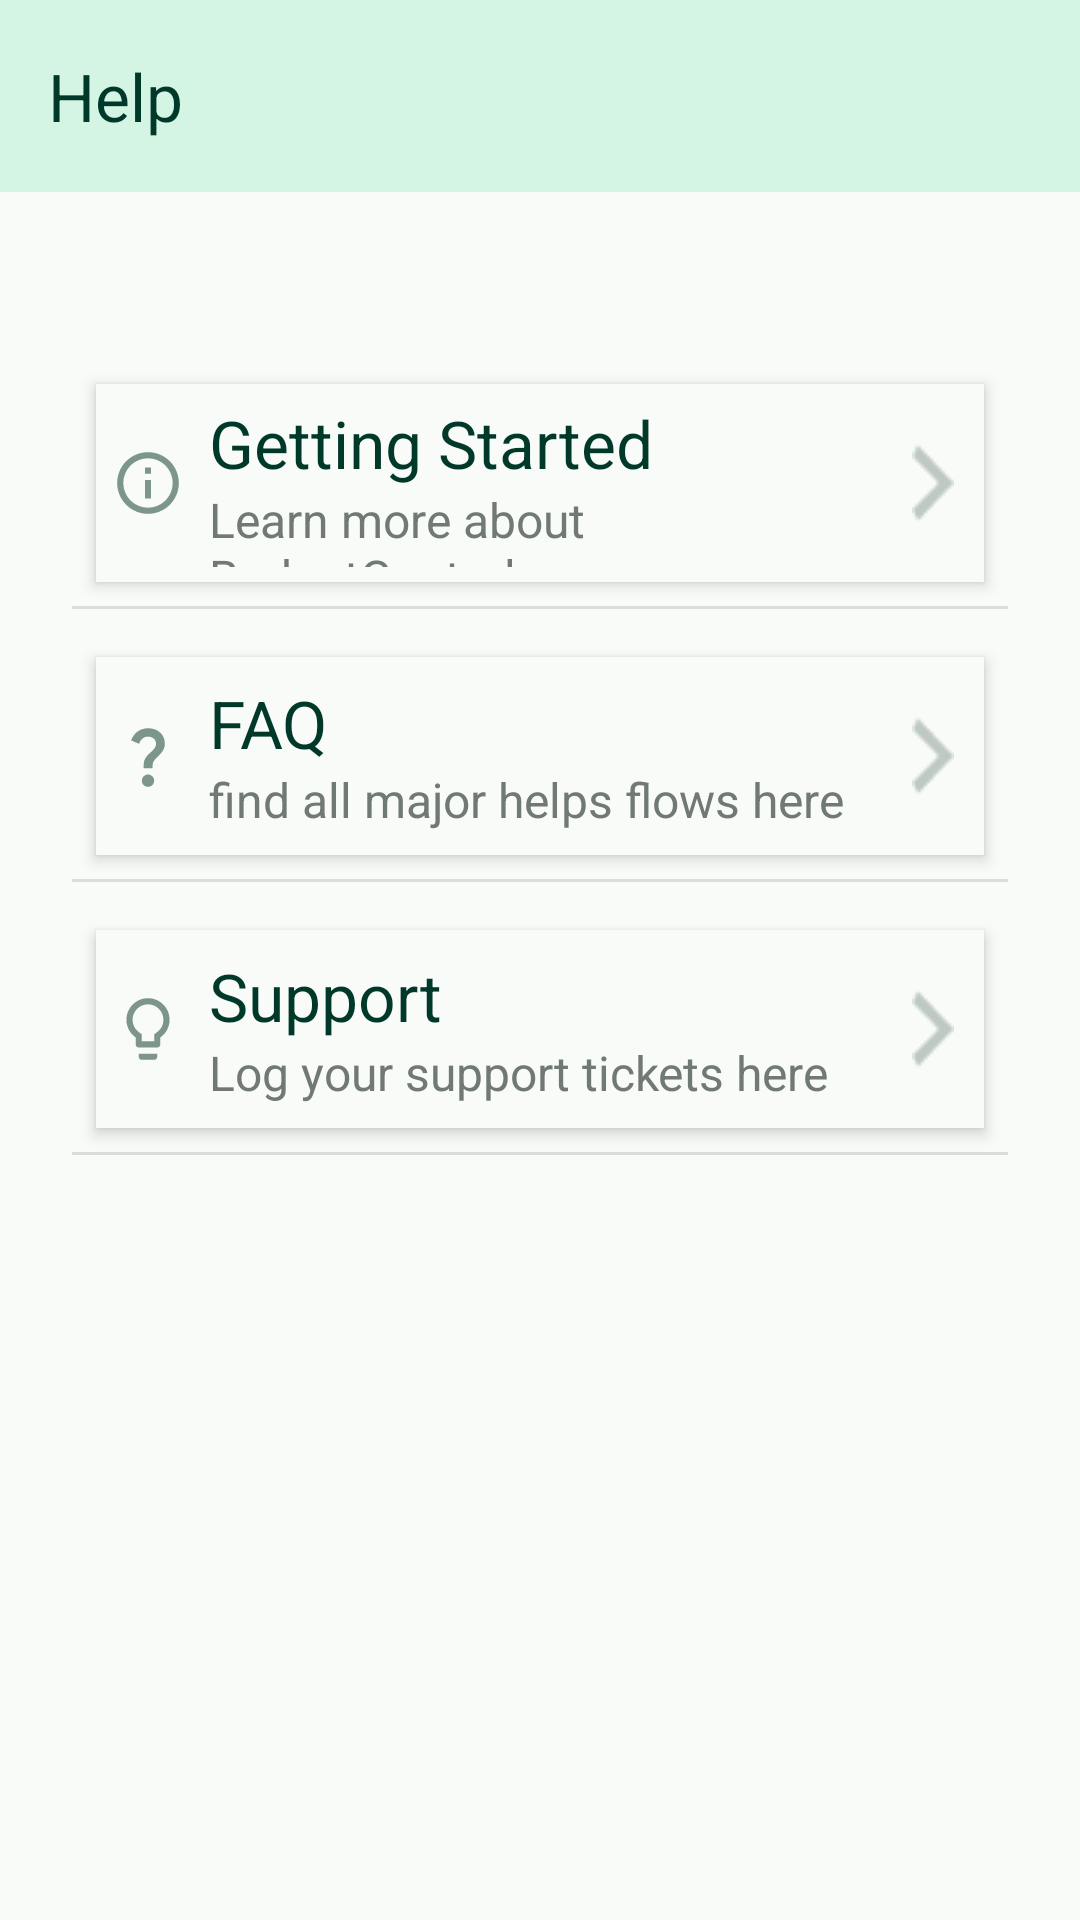

Locate icon controls on the screen. Image size 1080px x 1920px, boxes as bbox=[x1, y1, x2, y2].
info: bbox=[117, 452, 179, 514]
lightbulb: bbox=[126, 998, 170, 1060]
question mark: bbox=[131, 728, 165, 787]
